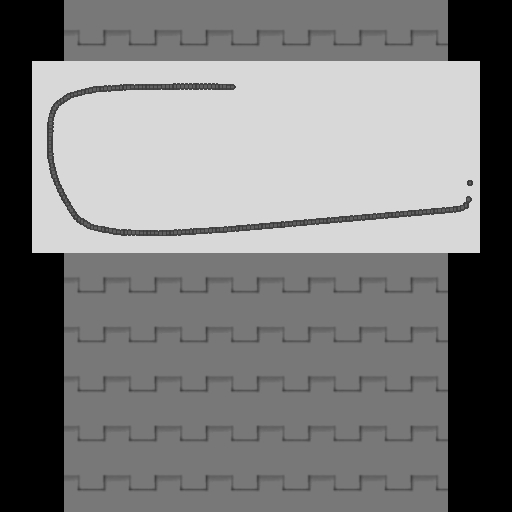Defect: (235, 79, 472, 132)
